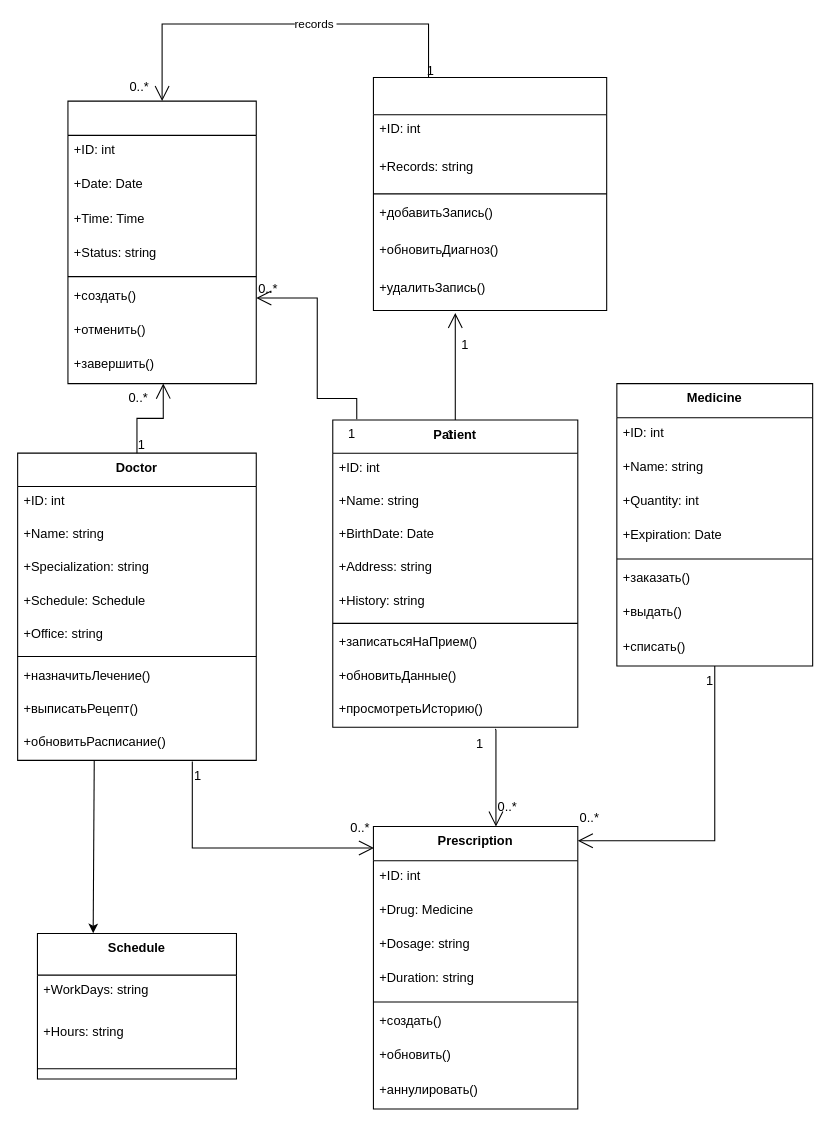
Some shapes in this 830 by 1127 pixel diagram are drawn without their labels. Each missing label, with the box of its shape:
Appointment: (67, 100, 256, 384)
MedicalCard: (372, 77, 607, 311)
